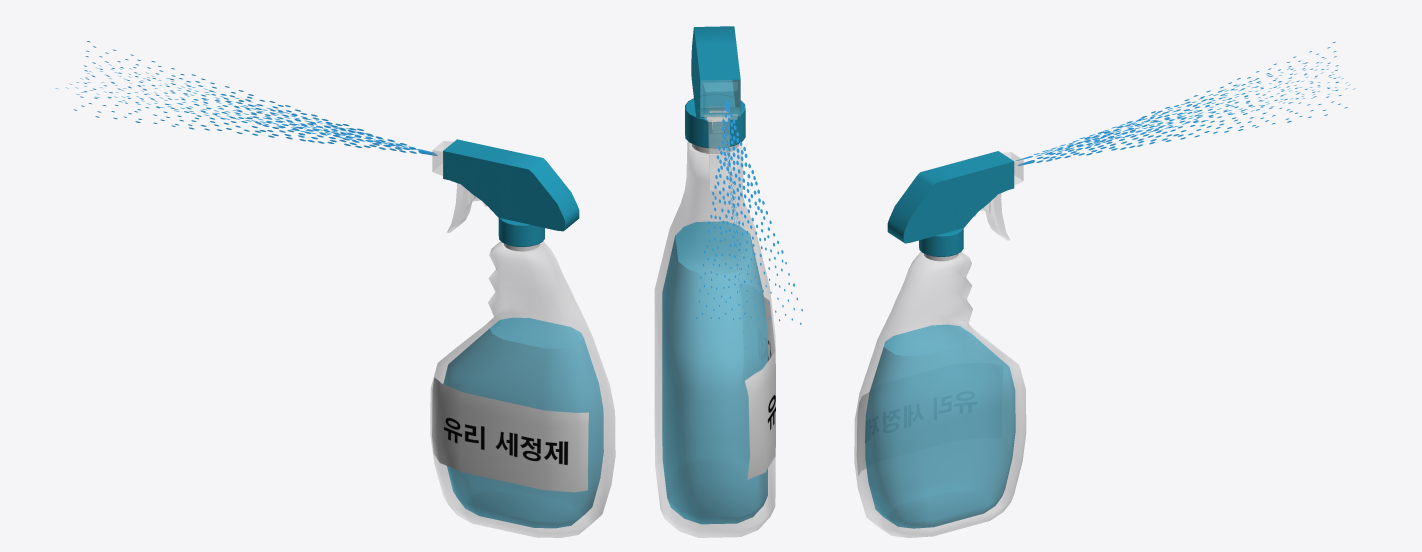
The model's file is Window_cleaner_Spray.glb.
3 renders of one model, left to right at view 1: azimuth 30°, elevation 25°; view 2: azimuth 150°, elevation 25°; view 3: azimuth 270°, elevation 25°, orthographic. The views are drawn at different scales.
Parts seen in each view (by area): view 1: SprayCleaner_Material #41_0.002, Plane; view 2: SprayCleaner_Material #41_0.002, Plane, SprayCleaner_Material #41_0.003; view 3: SprayCleaner_Material #41_0.002, Plane.
Part boxes in pixels (box(x1,y1,x2,y2)): SprayCleaner_Material #41_0.002: box(430, 139, 615, 537); Plane: box(55, 41, 437, 155); SprayCleaner_Material #41_0.002: box(654, 26, 775, 537); Plane: box(696, 100, 802, 373); SprayCleaner_Material #41_0.003: box(708, 106, 730, 190); SprayCleaner_Material #41_0.002: box(854, 151, 1026, 537); Plane: box(1016, 41, 1355, 165).
Bounding box in the file's own units: 0.3093 × 0.3287 × 0.4306.
4 materials, 3 textured.
